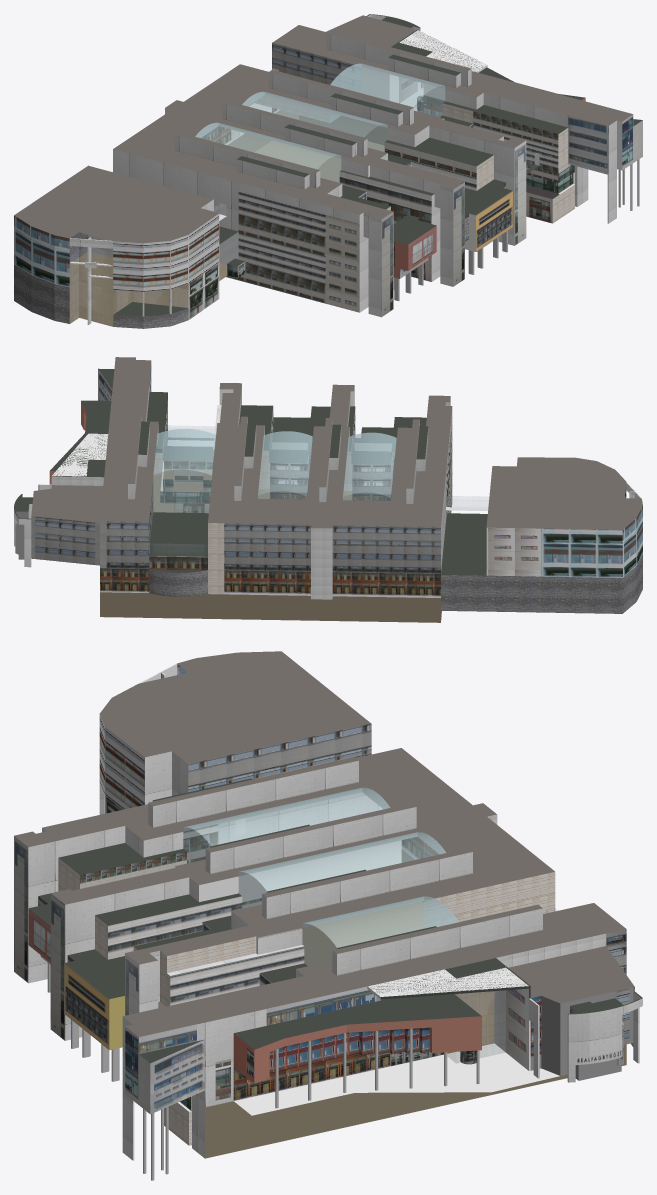
The model's file is Realfagbygget.dae.
The picture shows the model from 3 angles, top to bottom: view 1: azimuth 30°, elevation 25°; view 2: azimuth 150°, elevation 25°; view 3: azimuth 270°, elevation 25°; orthographic projection. The views are drawn at different scales.
Parts seen in each view (by area): view 1: _9_realfagbygget; view 2: _9_realfagbygget; view 3: _9_realfagbygget.
Boxes of the visible parts, <box> form: _9_realfagbygget: <box>14,14,642,328</box>; _9_realfagbygget: <box>14,357,642,622</box>; _9_realfagbygget: <box>14,651,642,1180</box>.
Bounding box in the file's own units: 177039 × 119104 × 32944.
Materials: 44 (34 with a texture image).
